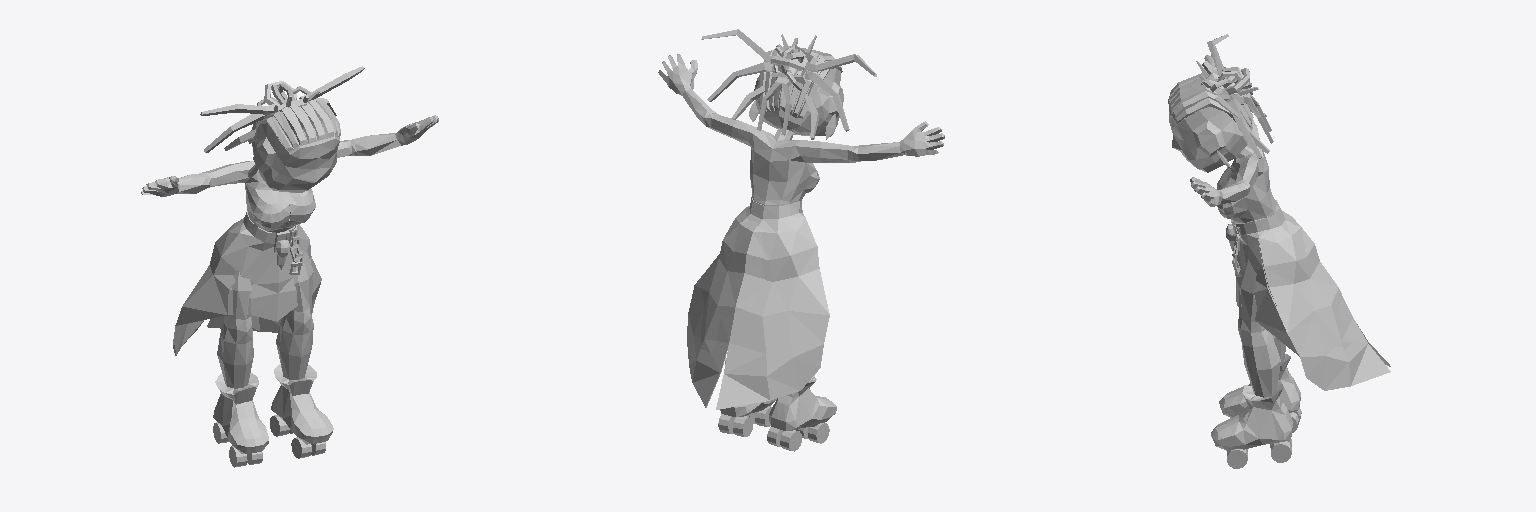
Rendered from bruja_000082.obj.
3 views of the same model, side by side, from view 1: azimuth 30°, elevation 25°; view 2: azimuth 150°, elevation 25°; view 3: azimuth 270°, elevation 25° (orthographic).
Visible parts, largest first — view 1: Bruja_Plane.001; view 2: Bruja_Plane.001; view 3: Bruja_Plane.001.
Boxes of the visible parts, x1=… form: Bruja_Plane.001: x1=141, y1=66, x2=438, y2=467; Bruja_Plane.001: x1=658, y1=29, x2=944, y2=451; Bruja_Plane.001: x1=1168, y1=34, x2=1390, y2=468.
Size of the model in its own units: 12.72 by 16.17 by 8.52.